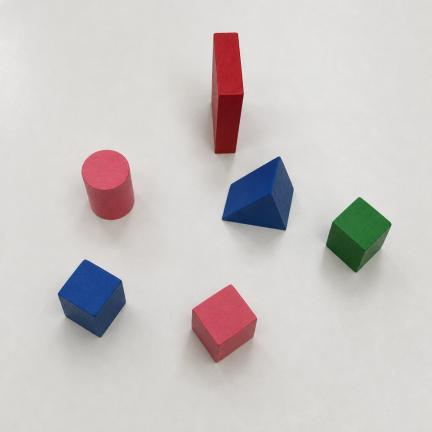BuildingBlocks: (59, 260, 125, 337), (223, 157, 293, 229), (192, 285, 256, 361), (327, 198, 391, 271), (212, 33, 243, 153), (82, 150, 134, 219)
